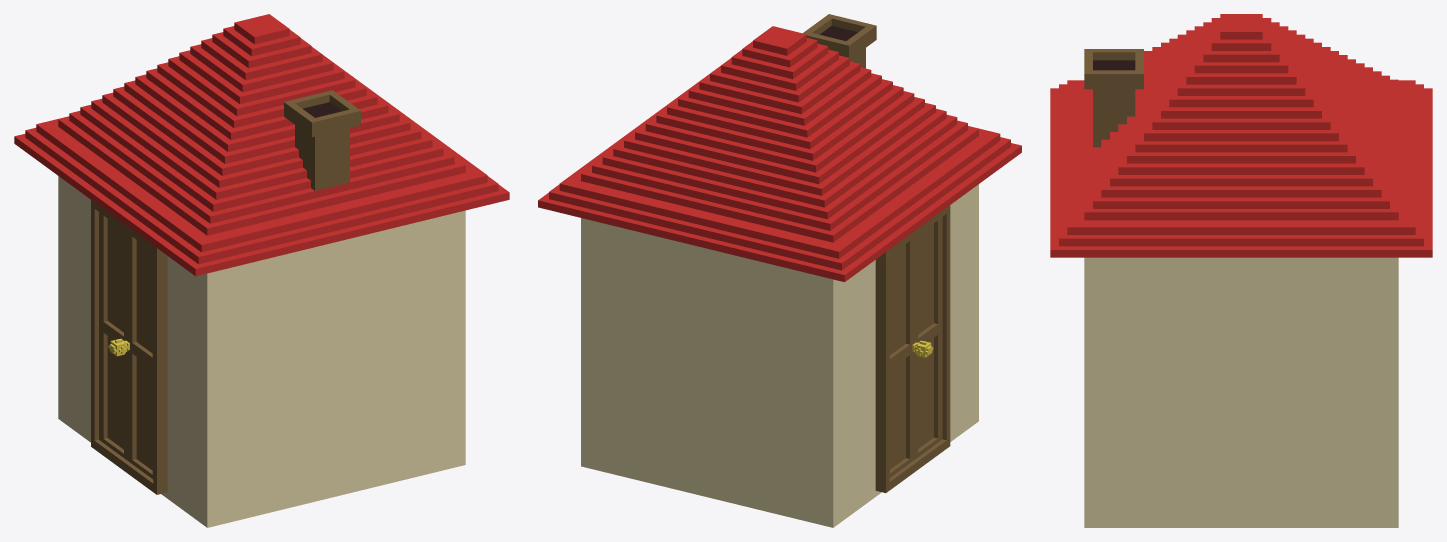
Rendered from House.fbx.
3 views of the same model, side by side, from view 1: azimuth 30°, elevation 25°; view 2: azimuth 150°, elevation 25°; view 3: azimuth 270°, elevation 25° (orthographic). The views are drawn at different scales.
Visible parts, largest first — view 1: House; view 2: House; view 3: House.
Boxes of the visible parts, bbox=[...] form: House: bbox=[14, 14, 509, 527]; House: bbox=[538, 14, 1021, 527]; House: bbox=[1050, 14, 1432, 527].
Size of the model in its own units: 244 by 310 by 244.
